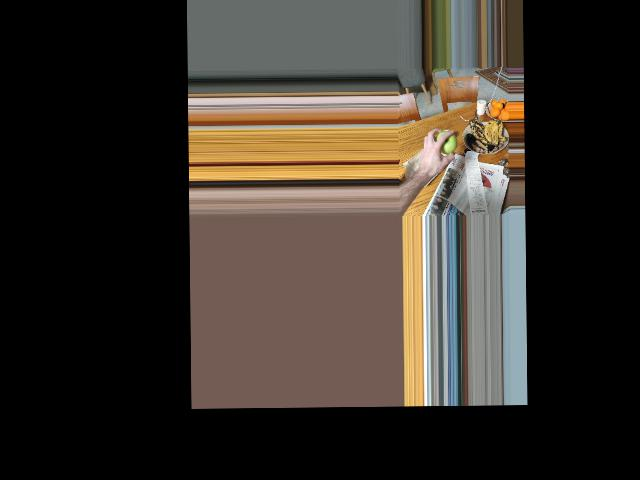apple: (435, 132, 455, 155)
